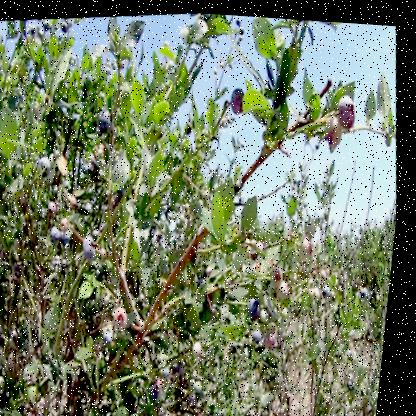intermediate: (325, 112, 347, 147), (118, 301, 136, 332), (305, 232, 322, 256), (67, 192, 82, 211), (270, 327, 284, 347), (49, 200, 62, 220), (162, 375, 173, 391)
mature: (337, 89, 361, 128), (86, 230, 105, 263), (230, 85, 250, 112), (98, 107, 116, 131), (42, 156, 55, 180), (55, 224, 69, 245), (109, 328, 122, 348), (327, 277, 337, 296), (258, 325, 269, 342)
young: (275, 262, 297, 298), (255, 256, 271, 278), (235, 247, 251, 268), (314, 282, 329, 302)
